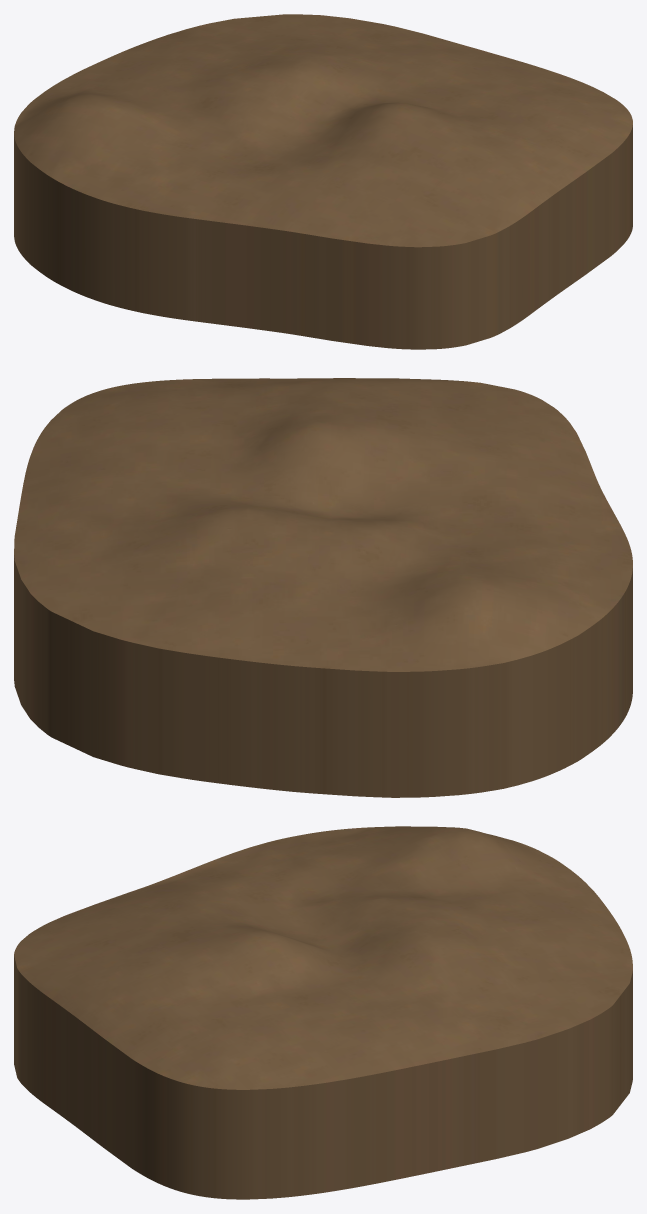
The picture shows the model from 3 angles, top to bottom: view 1: azimuth 30°, elevation 25°; view 2: azimuth 150°, elevation 25°; view 3: azimuth 270°, elevation 25°; orthographic projection. The views are drawn at different scales.
Parts seen in each view (by area): view 1: SM_Vault_Sand_Pile_01_V2_LOD0; view 2: SM_Vault_Sand_Pile_01_V2_LOD0; view 3: SM_Vault_Sand_Pile_01_V2_LOD0.
Boxes of the visible parts, box(x1,y1,x2,y2) form: SM_Vault_Sand_Pile_01_V2_LOD0: box(14, 14, 632, 349); SM_Vault_Sand_Pile_01_V2_LOD0: box(14, 378, 632, 797); SM_Vault_Sand_Pile_01_V2_LOD0: box(14, 826, 632, 1199).
Size of the model in its own units: 5.15 by 1.39 by 5.12.
